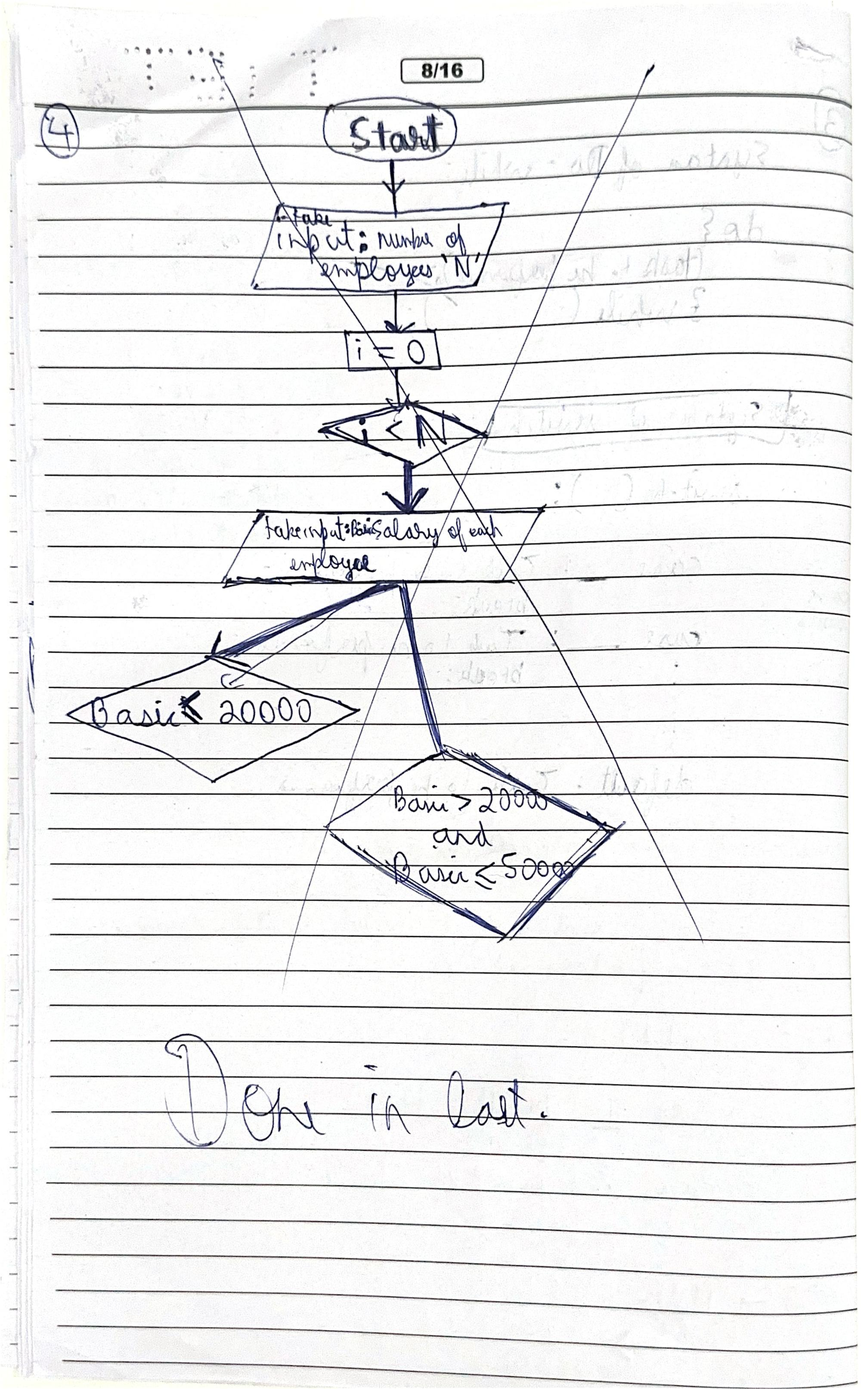cuttings: (60, 49, 724, 985)
